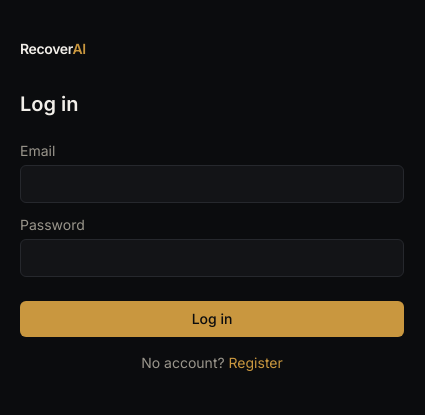
it: LoginPage › shows the real backend error message and stays on the page when login fails
The width and height of the screenshot is (425, 415).
In the field labelled "Email": (212, 184) [20, 165, 404, 203], type "akshay@example.com"
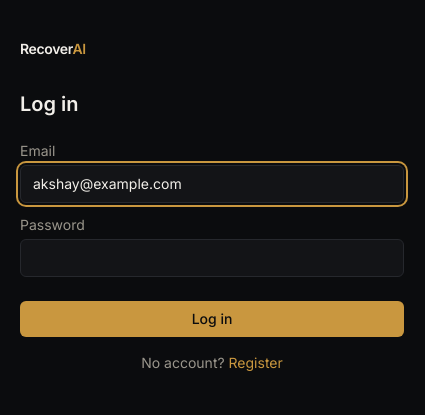
In the password field labelled "Password": (212, 258) [20, 239, 404, 277], type "wrong-password"
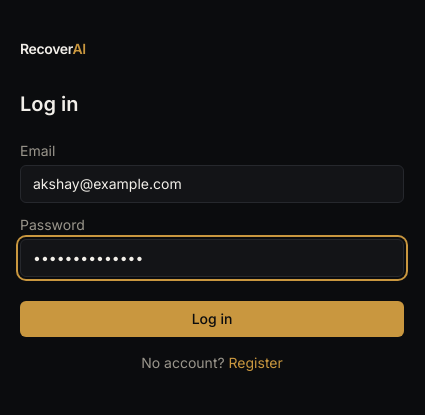
Click the button "Log in": (212, 319) [20, 301, 404, 337]
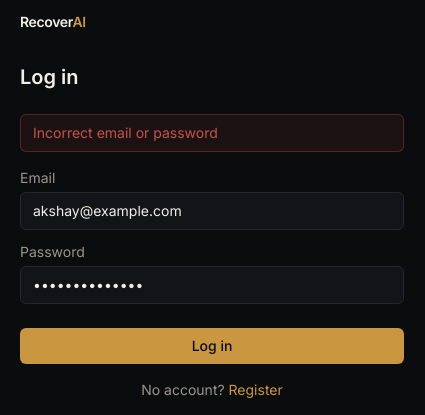
Expected: the text "Incorrect email or password" is shown, [20, 114, 404, 152]
